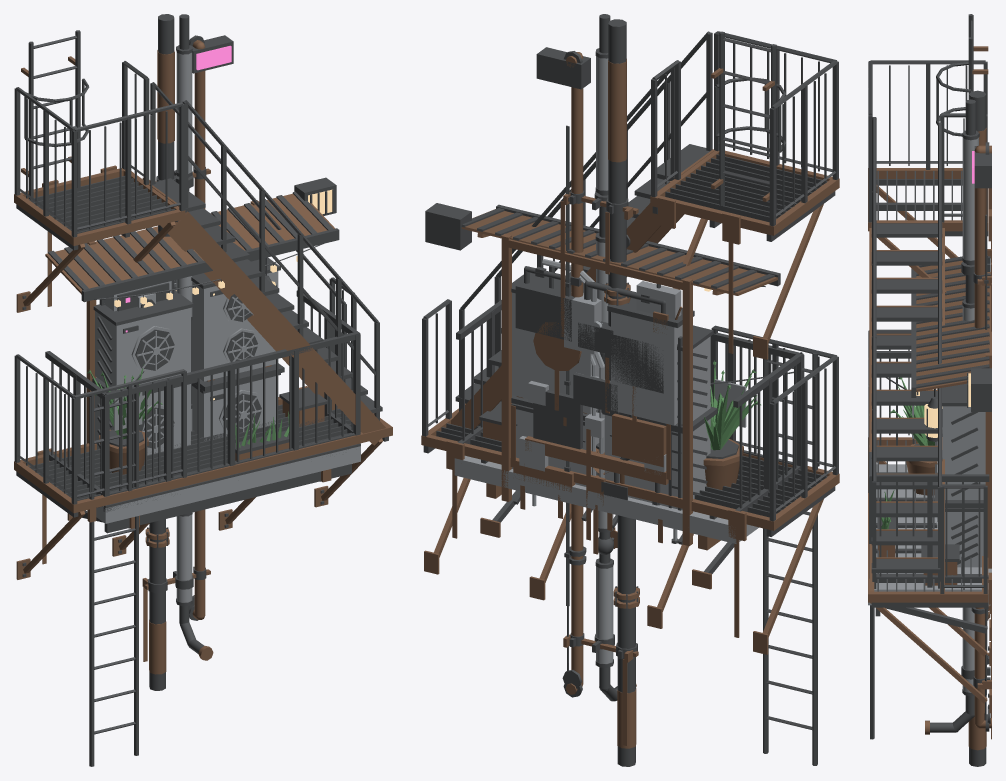
File: greeble164.glb
3 views of the same model, side by side, from view 1: azimuth 30°, elevation 25°; view 2: azimuth 150°, elevation 25°; view 3: azimuth 270°, elevation 25° (orthographic). The views are drawn at different scales.
Parts seen in each view (by area): view 1: g164-fireescape-g164-metal, g164-balcony-g164-metal, g164-fireescape-g164-rust, g164-acstack-g164-paint, g164-balcony-g164-rust, g164-acstack-g164-metal, g164-pipes-g164-rust, g164-pipes-g164-metal, g164-balcony-g164-paint, g164-pipes-g164-paint, g164-balcony-g164-plant, g164-acstack-g164-rust (+1 smaller); view 2: g164-fireescape-g164-metal, g164-fireescape-g164-rust, g164-balcony-g164-metal, g164-pipes-g164-metal, g164-pipes-g164-rust, g164-acstack-g164-paint, g164-utility-g164-paint, g164-acstack-g164-rust, g164-balcony-g164-rust, g164-ventcluster-g164-metal, g164-balcony-g164-paint, g164-utility-g164-metal (+5 smaller); view 3: g164-fireescape-g164-metal, g164-balcony-g164-metal, g164-fireescape-g164-rust, g164-acstack-g164-paint, g164-balcony-g164-rust, g164-pipes-g164-metal, g164-pipes-g164-rust, g164-pipes-g164-paint, g164-balcony-g164-paint, g164-acstack-g164-metal, g164-acstack-g164-rust, g164-balcony-g164-plant (+1 smaller).
Part boxes in pixels (x1,y1,x2,y2): g164-fireescape-g164-metal: (14, 30, 388, 766); g164-balcony-g164-metal: (45, 191, 360, 533); g164-fireescape-g164-rust: (14, 56, 392, 579); g164-acstack-g164-paint: (95, 271, 278, 455); g164-balcony-g164-rust: (45, 193, 334, 528); g164-acstack-g164-metal: (92, 257, 284, 448); g164-pipes-g164-rust: (142, 40, 213, 674); g164-pipes-g164-metal: (147, 14, 206, 690); g164-balcony-g164-paint: (87, 392, 360, 523); g164-pipes-g164-paint: (176, 52, 192, 602); g164-balcony-g164-plant: (87, 364, 289, 447); g164-acstack-g164-rust: (86, 200, 271, 443); g164-fireescape-g164-metal: (422, 31, 838, 765); g164-fireescape-g164-rust: (421, 68, 839, 654); g164-balcony-g164-metal: (456, 204, 804, 573); g164-pipes-g164-metal: (562, 14, 638, 766); g164-pipes-g164-rust: (560, 52, 639, 748); g164-acstack-g164-paint: (512, 259, 710, 540); g164-utility-g164-paint: (519, 293, 682, 475); g164-acstack-g164-rust: (501, 233, 692, 546); g164-balcony-g164-rust: (461, 209, 777, 589); g164-ventcluster-g164-metal: (533, 321, 663, 449); g164-balcony-g164-paint: (454, 379, 758, 543); g164-utility-g164-metal: (515, 266, 694, 510); g164-fireescape-g164-metal: (868, 14, 991, 739); g164-balcony-g164-metal: (869, 256, 989, 633); g164-fireescape-g164-rust: (868, 46, 991, 713); g164-acstack-g164-paint: (936, 388, 985, 567); g164-balcony-g164-rust: (878, 260, 990, 640); g164-pipes-g164-metal: (930, 90, 990, 766); g164-pipes-g164-rust: (925, 128, 991, 750); g164-pipes-g164-paint: (962, 137, 978, 692); g164-balcony-g164-paint: (868, 405, 991, 605); g164-acstack-g164-metal: (935, 383, 983, 564); g164-acstack-g164-rust: (985, 272, 991, 568); g164-balcony-g164-plant: (881, 377, 934, 529).
Size of the model in its own units: 3 by 6.2 by 1.
